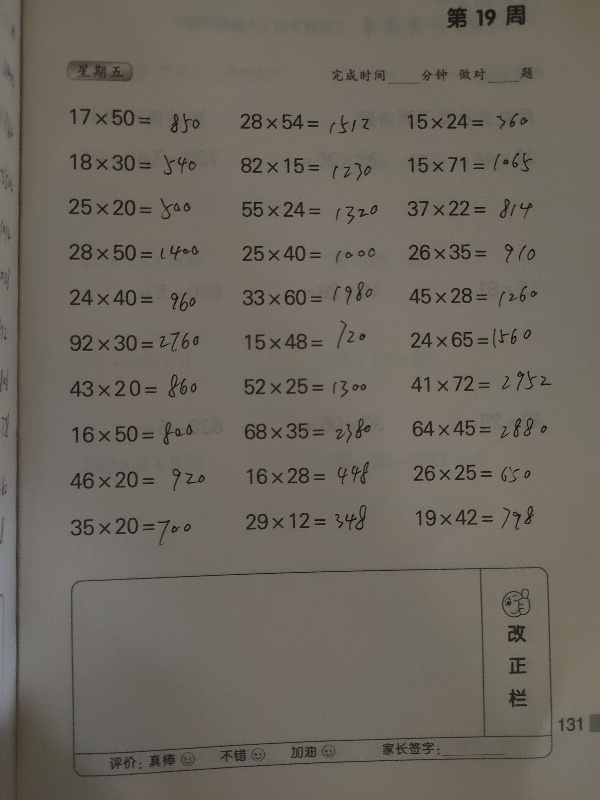equation: (65, 95, 207, 140), (236, 457, 387, 496), (236, 500, 380, 540), (233, 408, 384, 445), (235, 237, 387, 272), (61, 327, 211, 361), (65, 368, 201, 405), (69, 149, 211, 184), (404, 281, 548, 315), (240, 319, 373, 355), (59, 283, 201, 316), (405, 324, 544, 356), (239, 277, 384, 307), (67, 513, 194, 547), (67, 465, 209, 495), (237, 198, 380, 226), (408, 415, 550, 443), (407, 368, 554, 395), (411, 504, 537, 535), (69, 419, 197, 449), (66, 195, 195, 224), (237, 154, 375, 181), (405, 195, 537, 223), (406, 240, 540, 267), (236, 110, 372, 136), (404, 150, 536, 176), (65, 240, 202, 264), (240, 374, 369, 399), (410, 460, 534, 485), (405, 110, 532, 133)
